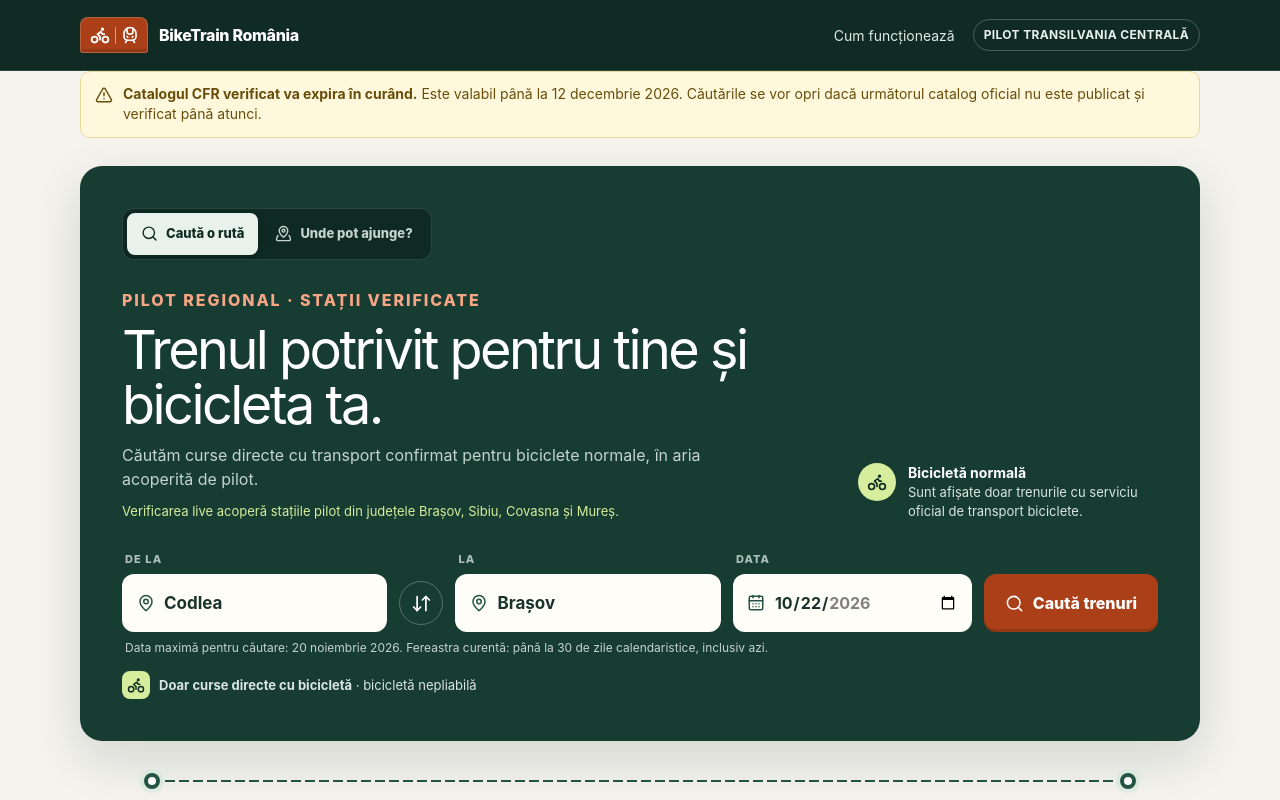
Test: BikeTrain app › selects the active station suggestion with the keyboard
Replace the text in the dropdown labelled "La" with "sibiu" at coordinates (602, 604), box [497, 576, 706, 630]
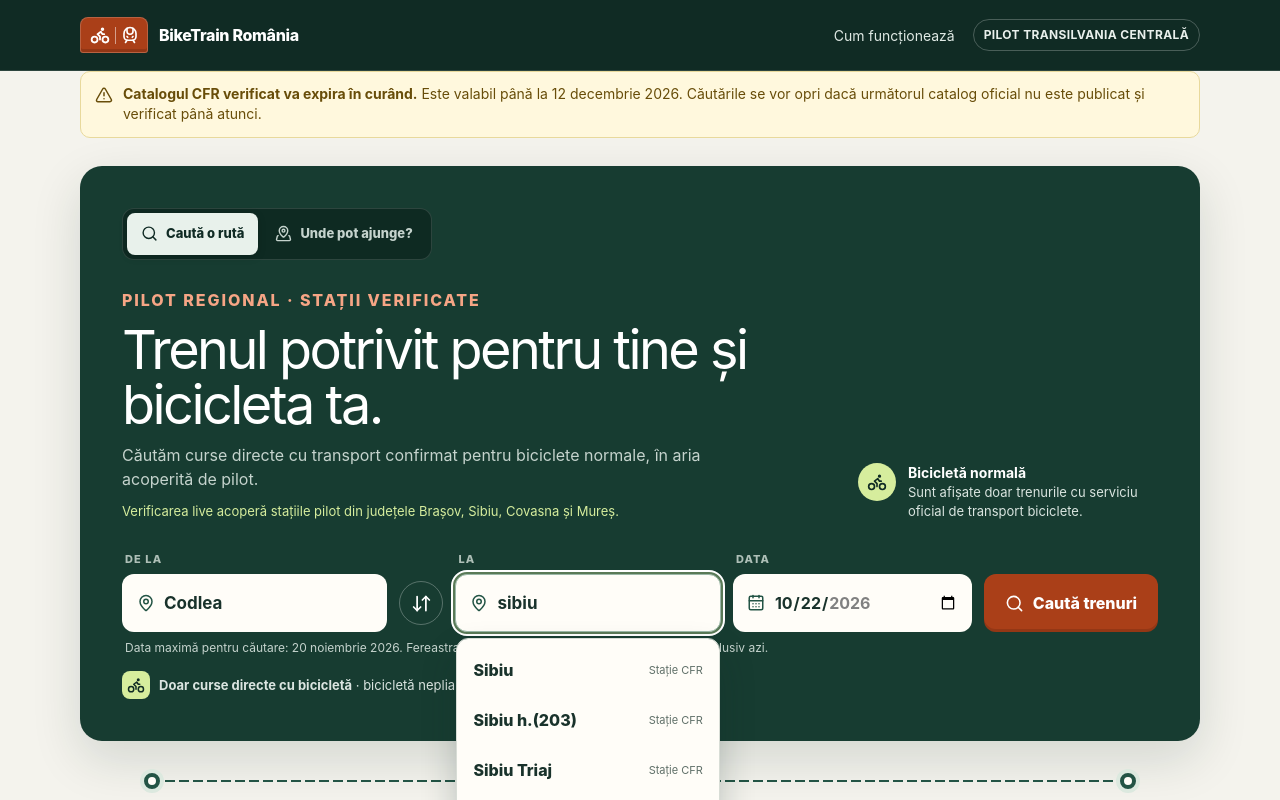
Press Arrowdown Enter
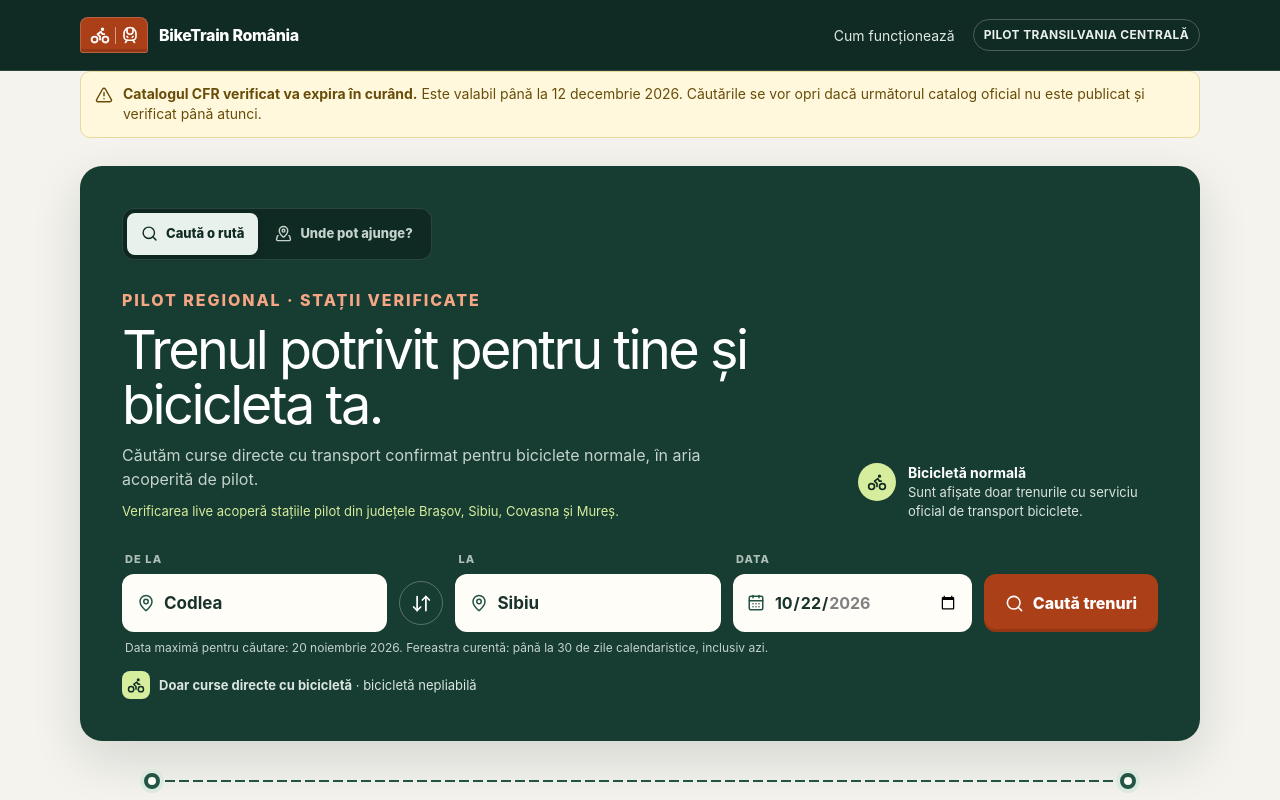
Now the dropdown labelled "La" holds "Sibiu", box [497, 576, 706, 630]
Now the dropdown labelled "La" is collapsed, box [497, 576, 706, 630]
